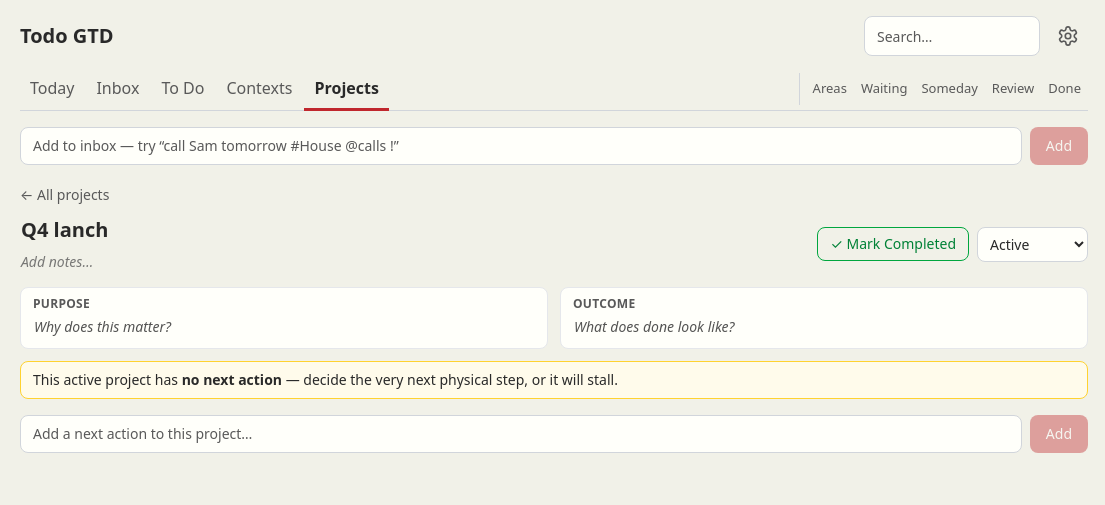
Test: ProjectDetailPage — inline name edit › sends nothing when the name is unchanged
The image size is (1105, 505).
Click the button titled "Click to rename": (65, 230) x1=16 y1=213 x2=113 y2=247
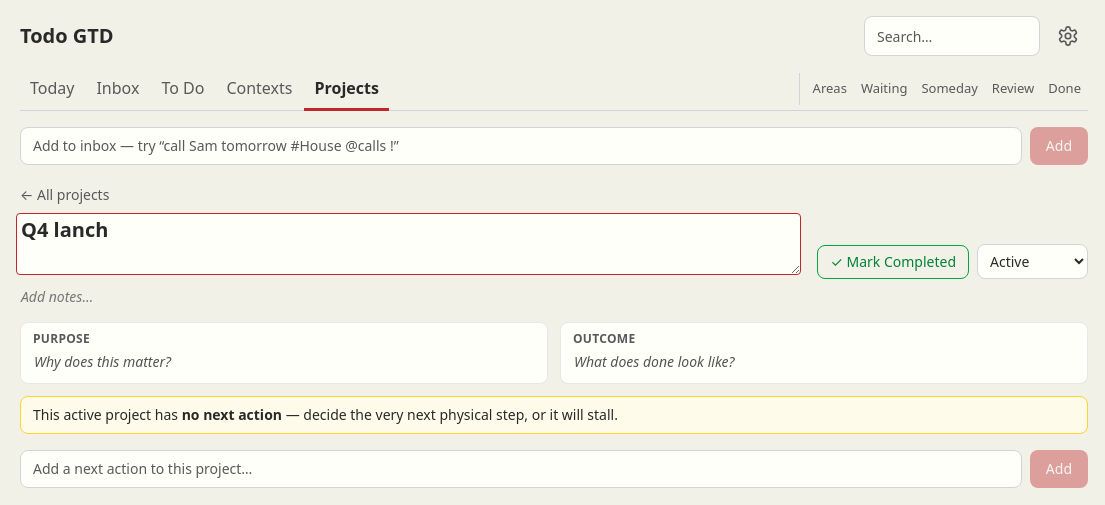
Leave the text box named "Project name", box x1=16 y1=213 x2=801 y2=275
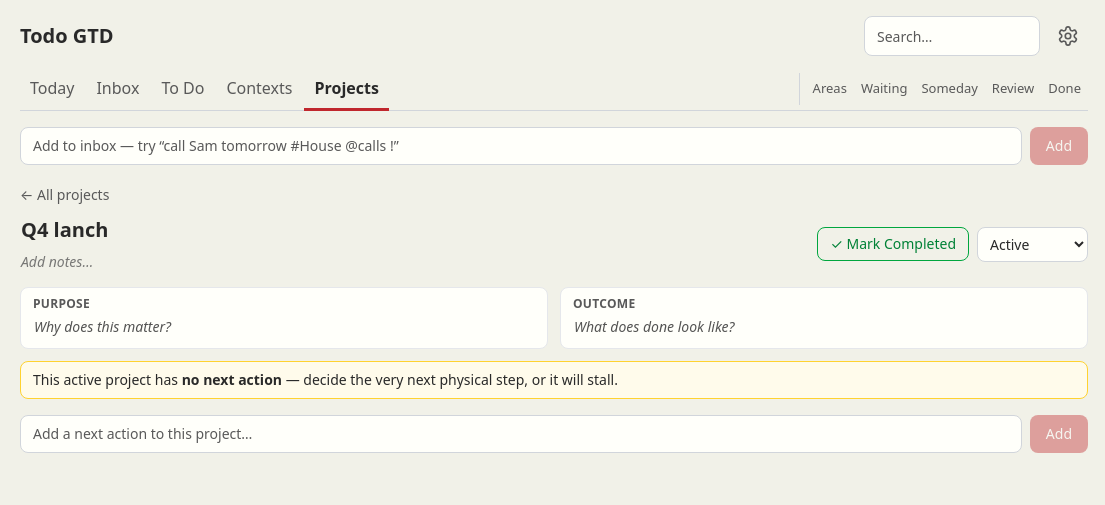
Expected: the button titled "Click to rename" reads "Q4 lanch", x1=16 y1=213 x2=113 y2=247
